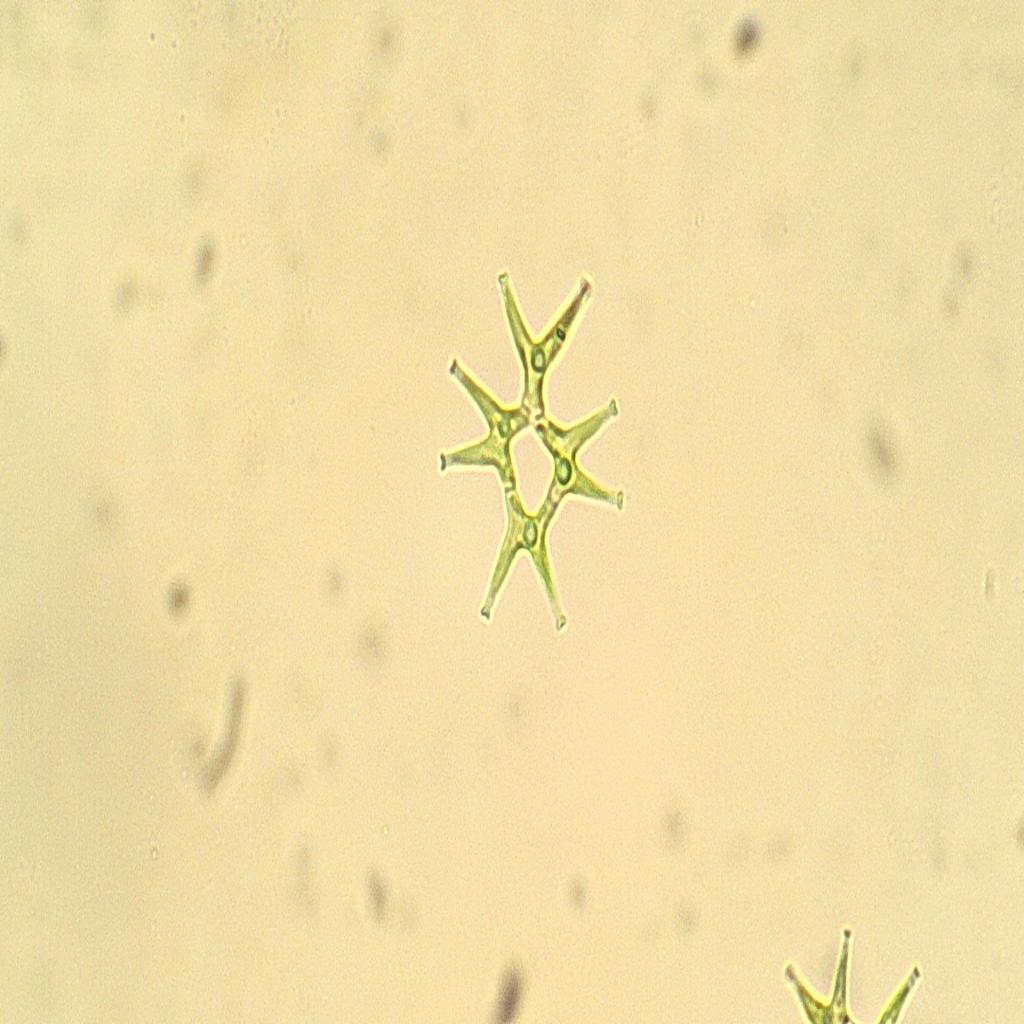Pediastrum_CT: (429, 197, 637, 686)
